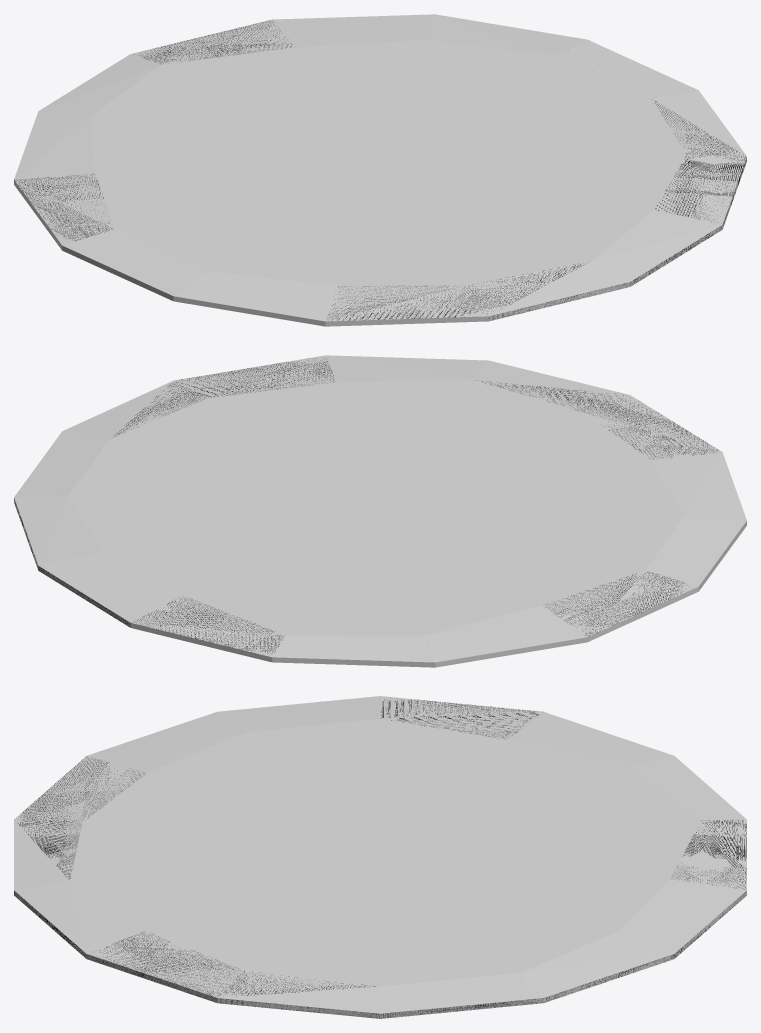
The model's file is crumble.low.webp.glb.
The picture shows the model from 3 angles, top to bottom: view 1: azimuth 30°, elevation 25°; view 2: azimuth 150°, elevation 25°; view 3: azimuth 270°, elevation 25°; orthographic projection. The views are drawn at different scales.
Visible parts, largest first — view 1: COL, LOD1_RIM; view 2: COL, LOD1_RIM; view 3: COL, LOD1_RIM.
Boxes of the visible parts, x1,y1,x2,y2 form: COL: [14, 14, 746, 326]; LOD1_RIM: [14, 20, 746, 321]; COL: [14, 355, 746, 667]; LOD1_RIM: [14, 358, 717, 653]; COL: [14, 696, 746, 1018]; LOD1_RIM: [14, 699, 746, 1018].
Size of what is drawn, in the model's own units: 3.9 by 0.11 by 3.8.
1 material, 1 textured.
